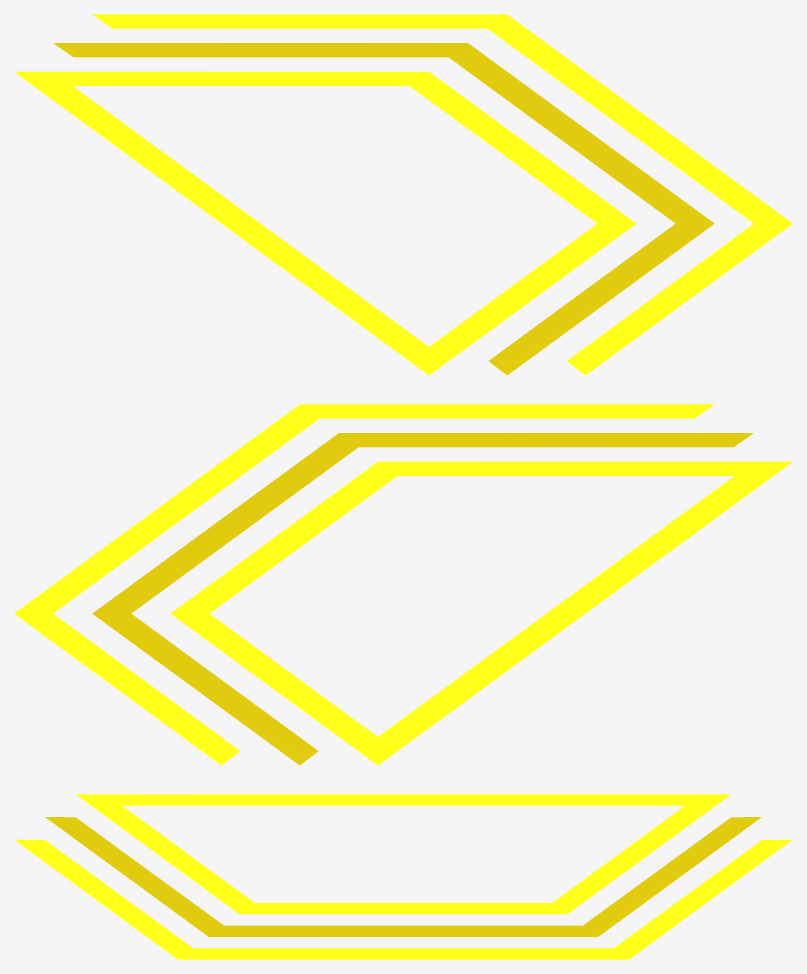
File: mesh_FactorySpaceship_Hockey_GoalLines.fbx
The picture shows the model from 3 angles, top to bottom: view 1: azimuth 30°, elevation 25°; view 2: azimuth 150°, elevation 25°; view 3: azimuth 270°, elevation 25°; orthographic projection. The views are drawn at different scales.
Parts seen in each view (by area): view 1: mesh_Factory_Spaceship_Hockey_GoundLines_Goal_1; view 2: mesh_Factory_Spaceship_Hockey_GoundLines_Goal_1; view 3: mesh_Factory_Spaceship_Hockey_GoundLines_Goal_1.
Boxes of the visible parts, x1,y1,x2,y2 form: mesh_Factory_Spaceship_Hockey_GoundLines_Goal_1: (14, 14, 792, 375); mesh_Factory_Spaceship_Hockey_GoundLines_Goal_1: (14, 404, 792, 765); mesh_Factory_Spaceship_Hockey_GoundLines_Goal_1: (14, 794, 792, 959).
Bounding box in the file's own units: 6.67 × 2.17e-06 × 13.3.
